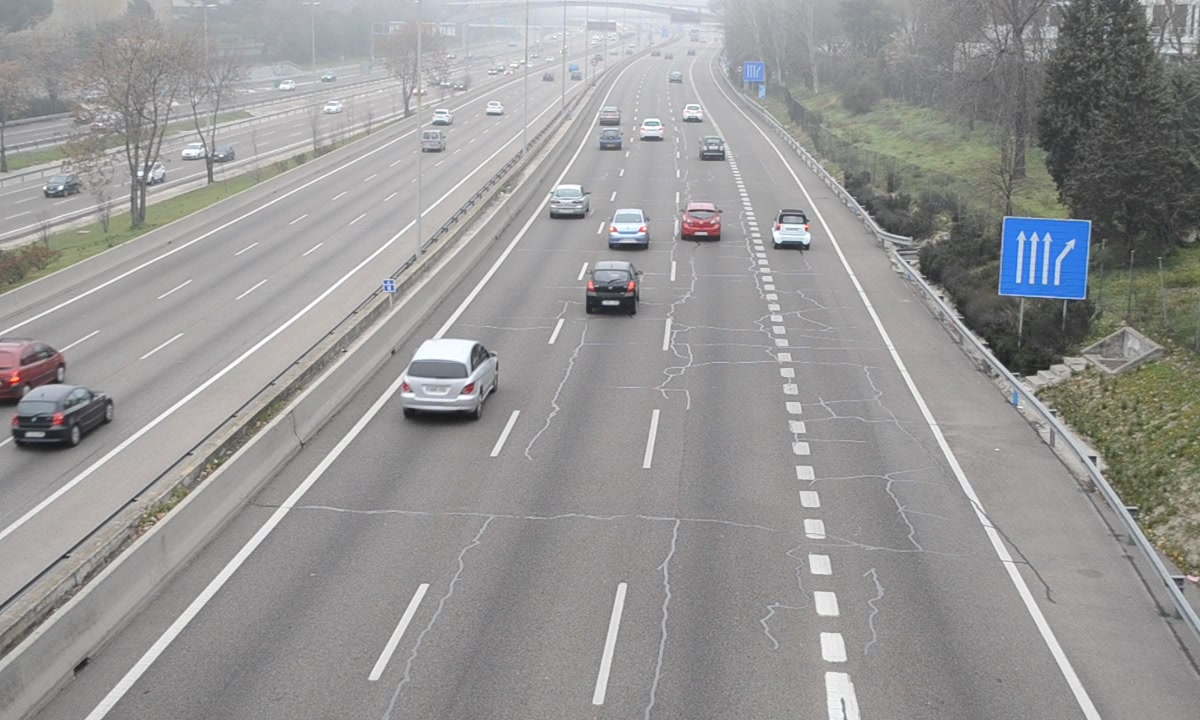car: (401, 337, 501, 411), (586, 258, 638, 314), (681, 201, 724, 244), (608, 208, 651, 250), (772, 209, 814, 250), (548, 181, 592, 219), (699, 135, 726, 162), (640, 115, 666, 141), (598, 129, 622, 152)
